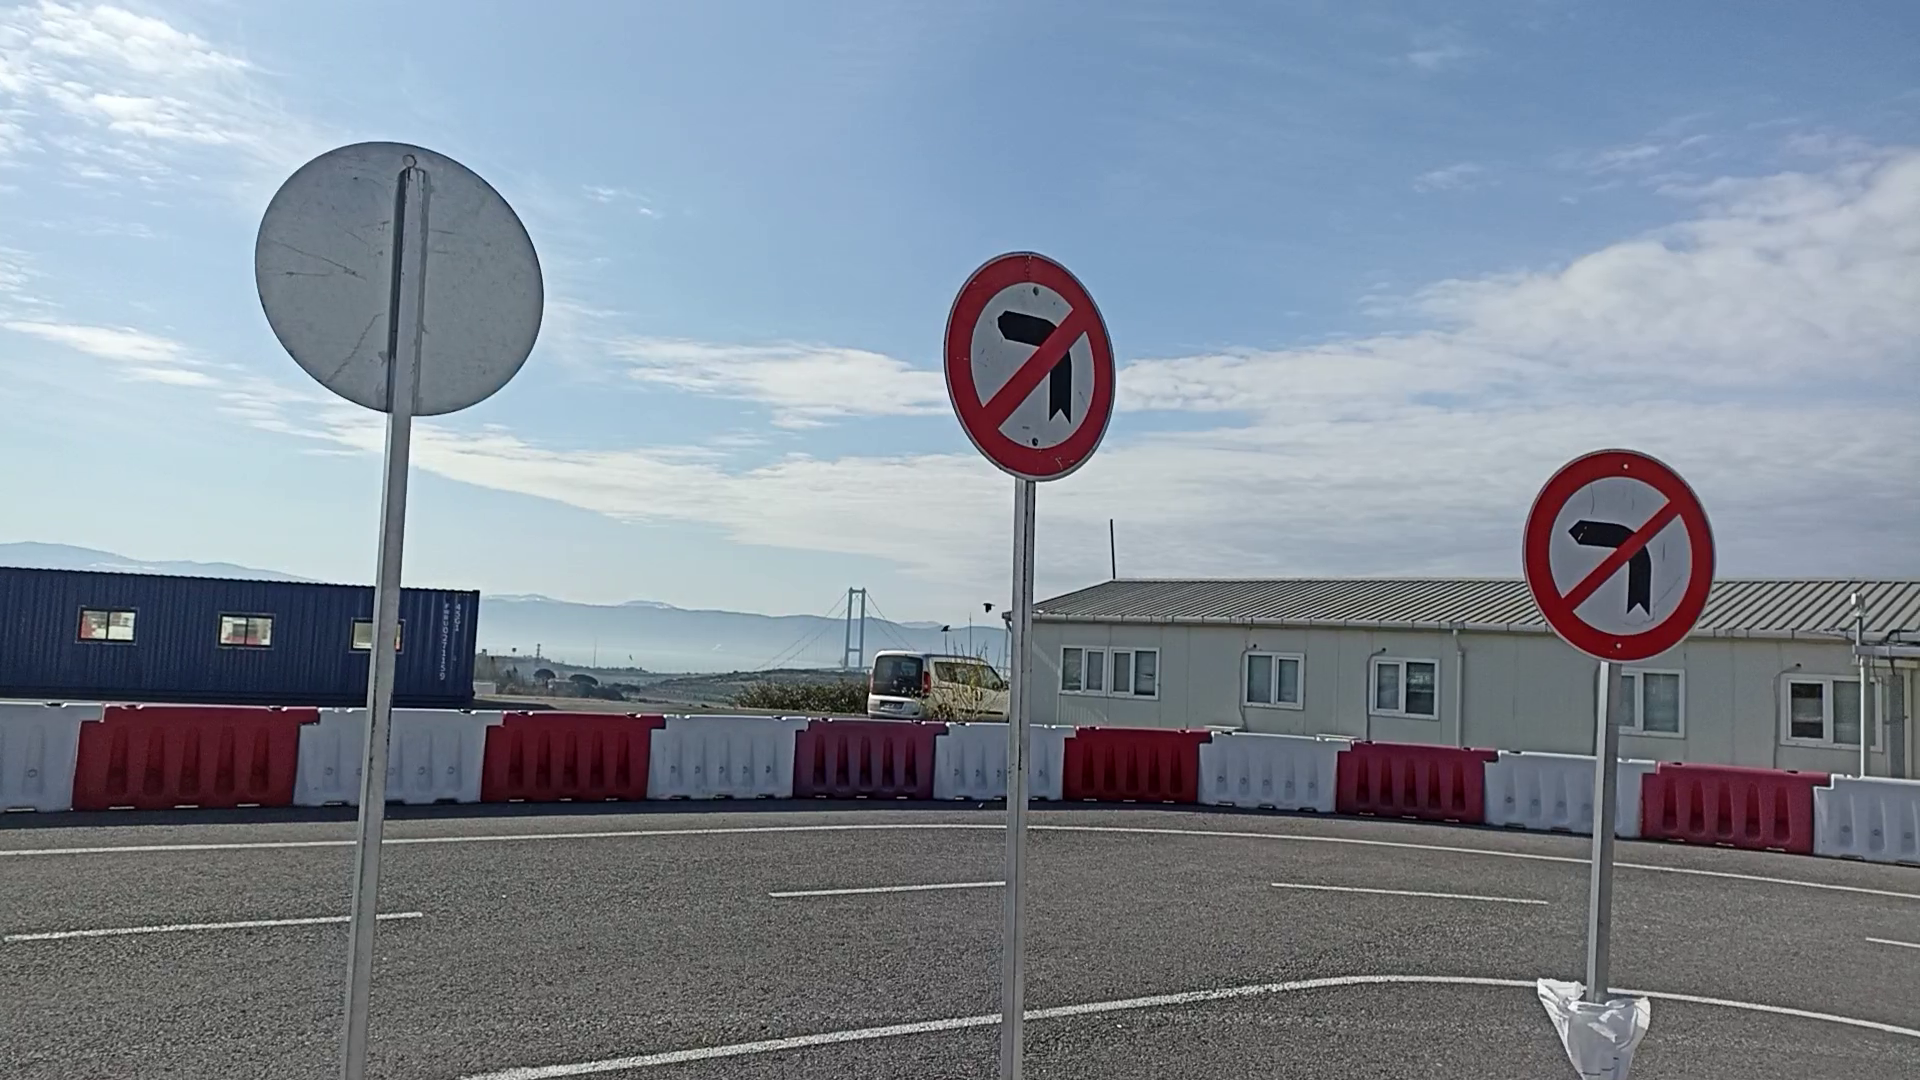noleft: (1516, 444, 1717, 666), (942, 248, 1122, 488)
